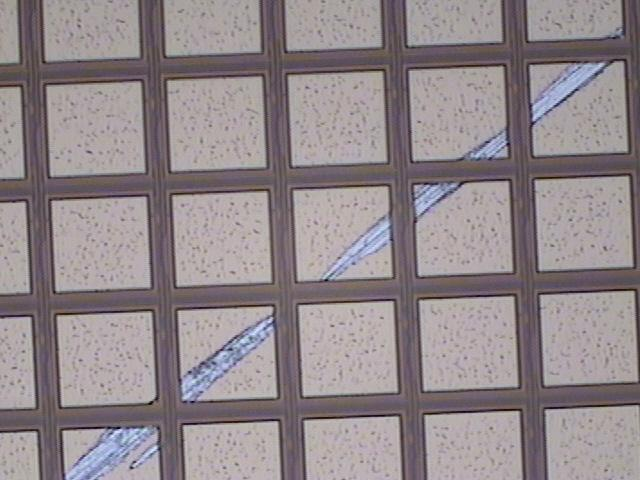SCRATCH: (54, 18, 640, 480)
